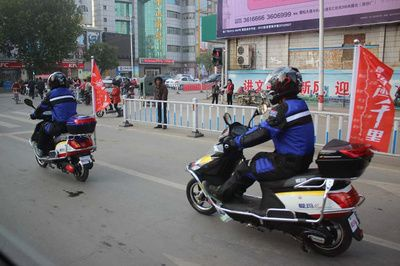non-vehicle: (183, 102, 375, 258), (25, 101, 98, 184)
